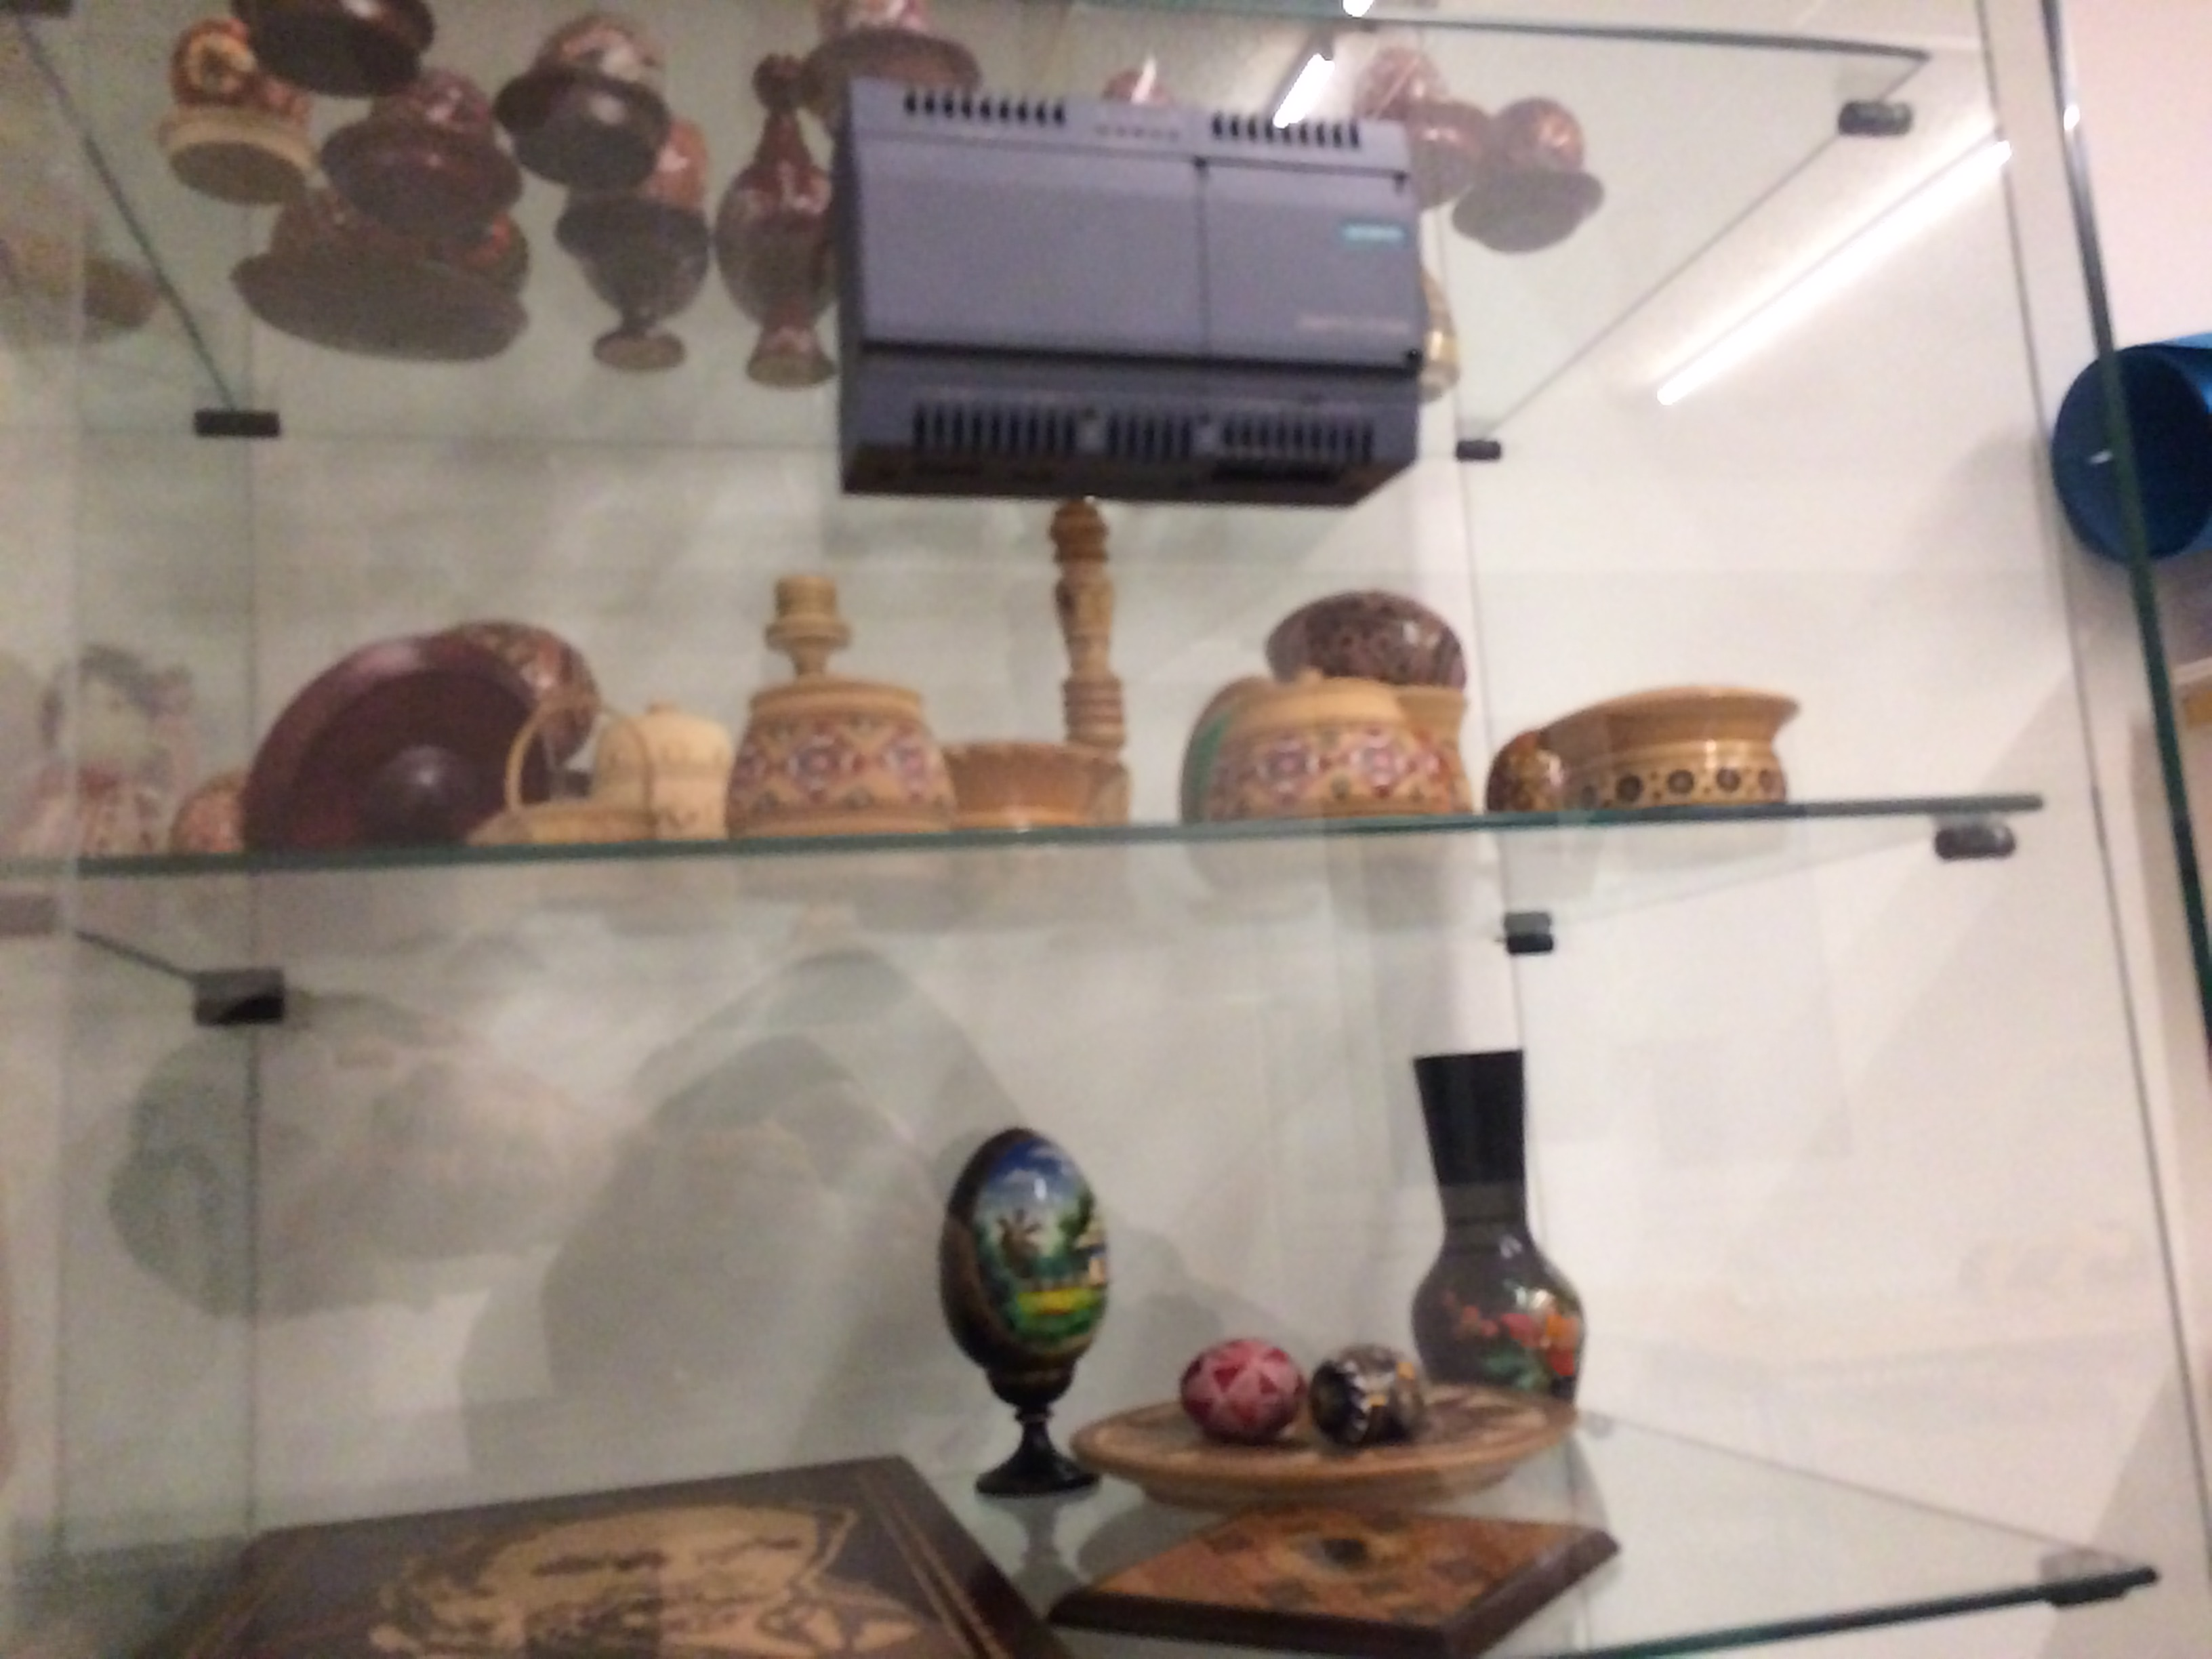iot2000: (827, 71, 1426, 509)
